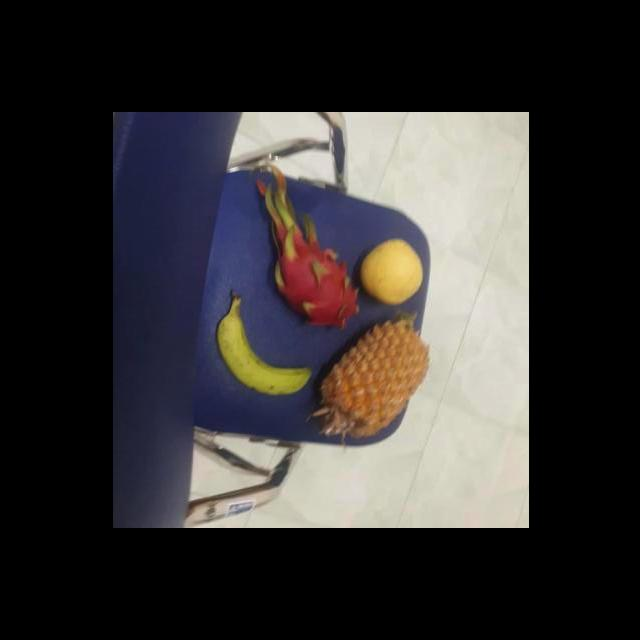banana: (214, 289, 308, 395)
pear: (357, 236, 424, 308)
pineapple: (312, 309, 431, 437)
pitaya: (271, 234, 358, 325)
